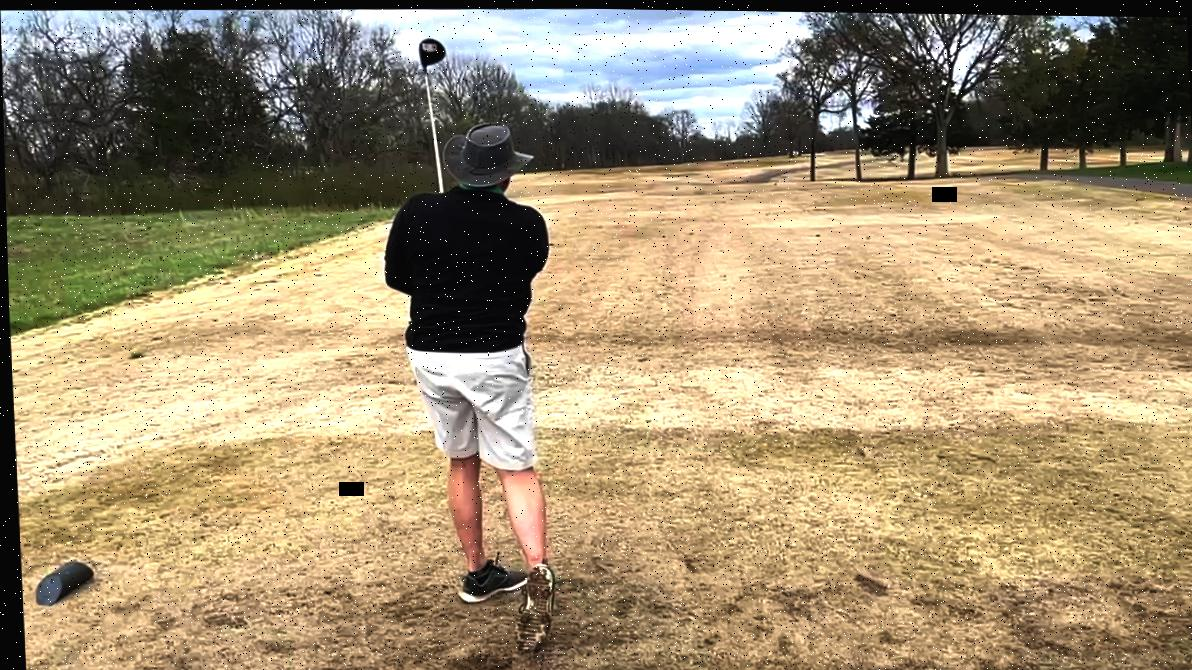ClubHead: (410, 32, 460, 72)
